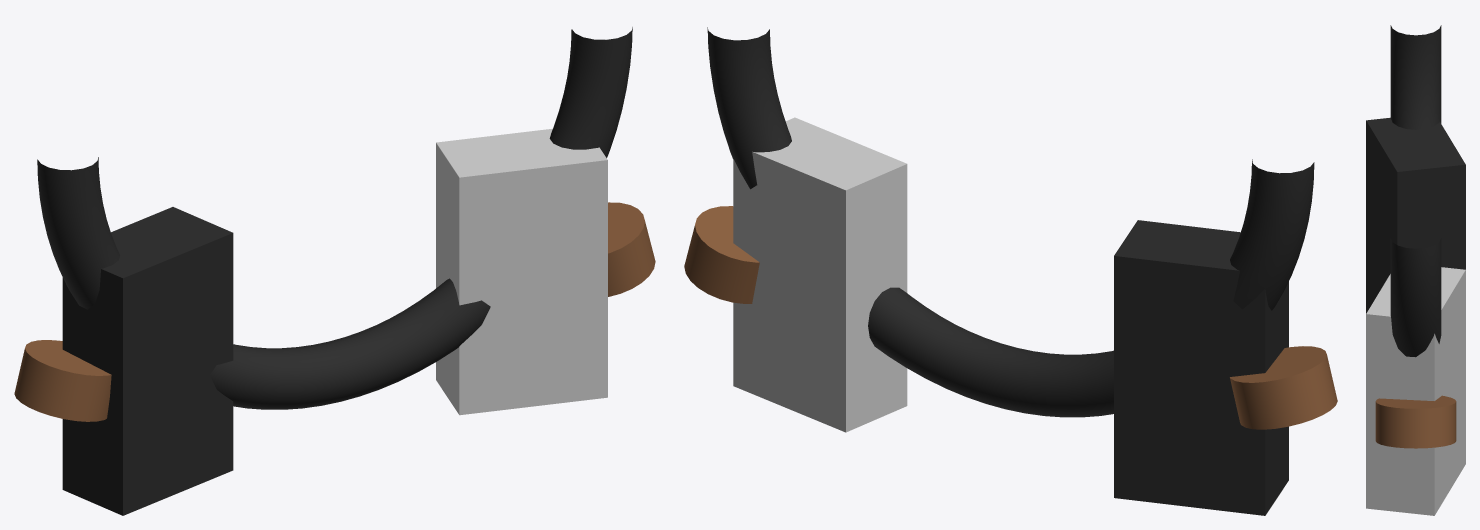
The model's file is aurora-headphones.glb.
The picture shows the model from 3 angles, left to right: view 1: azimuth 30°, elevation 25°; view 2: azimuth 150°, elevation 25°; view 3: azimuth 270°, elevation 25°; orthographic projection. The views are drawn at different scales.
Size of the model in its own units: 2.35 by 1.23 by 0.395.
